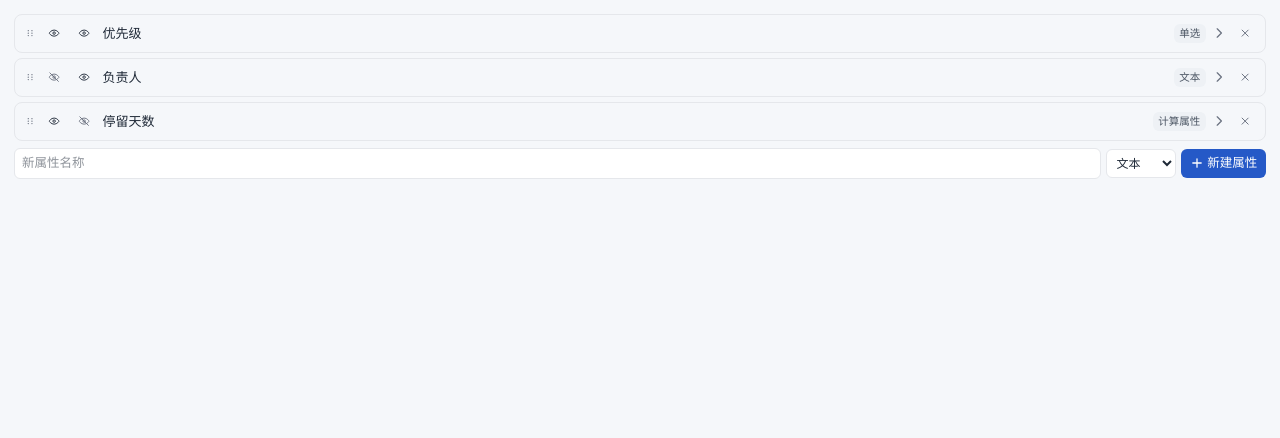
AttributeManager › 点击属性行展开/收起 AttributeEditor 编辑面板
This screenshot has width=1280, height=438.
Expected: the text "显示名" is not shown
Click the text "负责人" at (122, 77), box [102,69,142,85]
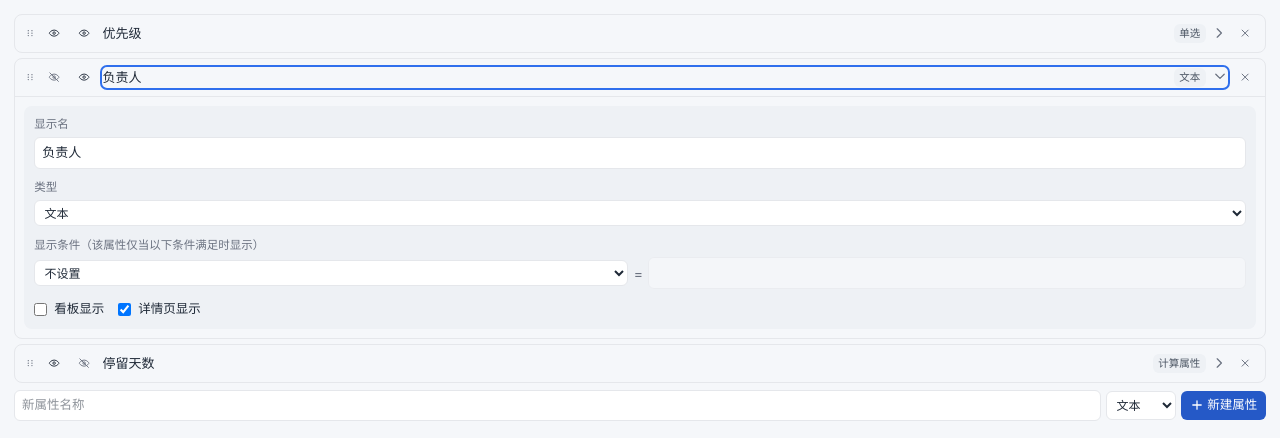
Expected: the text "显示名" is shown, [34,117,69,131]
Click the text "负责人" at (122, 77), box [102,69,142,85]
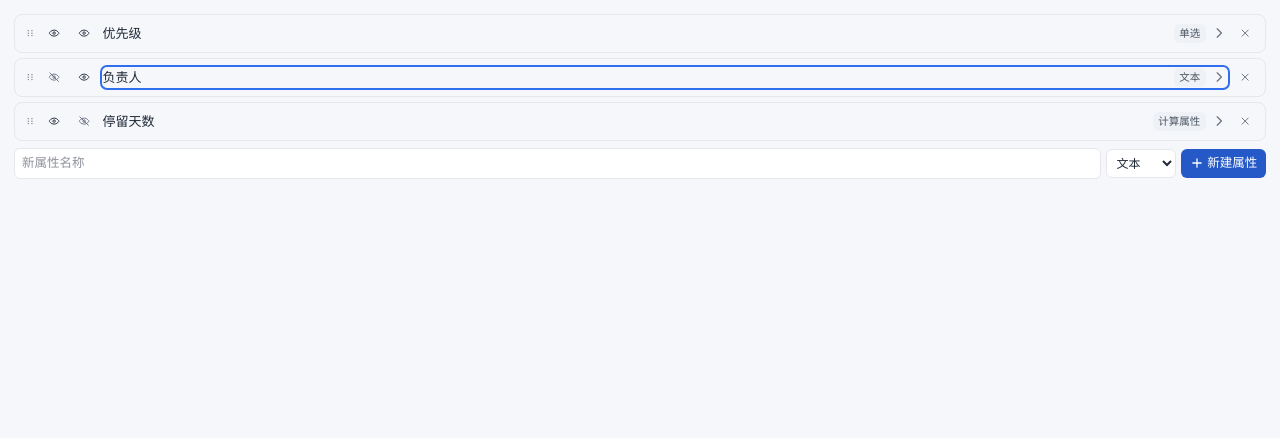
Expected: the text "显示名" is gone
